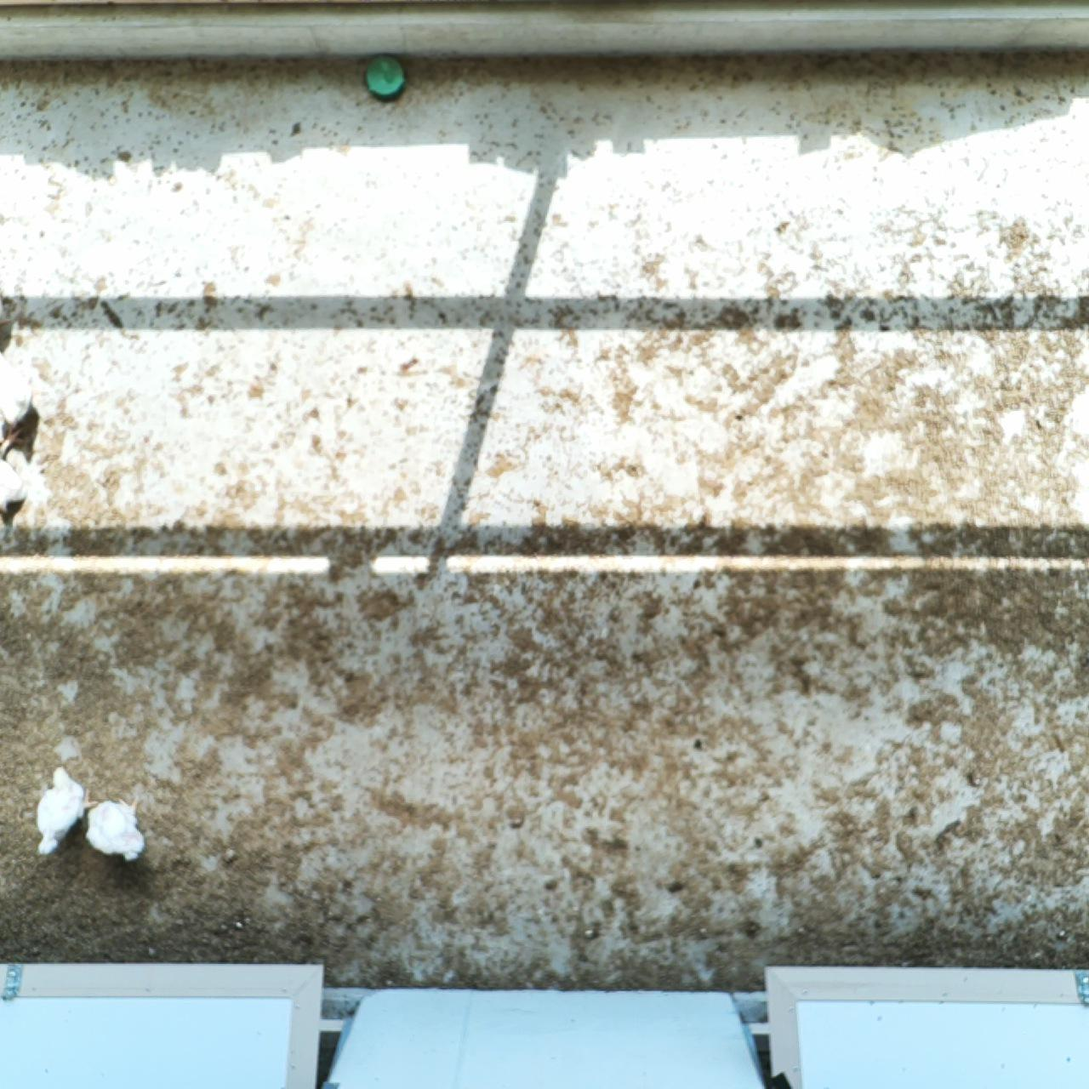chicken: (31, 763, 98, 860), (83, 793, 149, 864), (0, 423, 36, 518), (0, 347, 41, 429)
